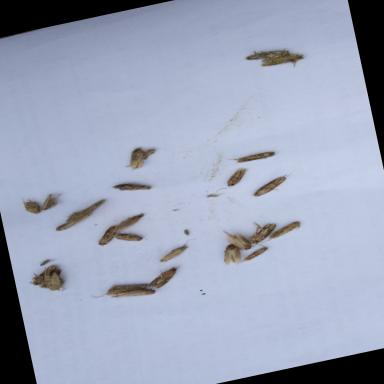pbw: (247, 172, 295, 198), (154, 238, 200, 264), (256, 220, 302, 244), (62, 198, 107, 222), (260, 50, 305, 74), (144, 264, 184, 290), (243, 43, 290, 64), (222, 224, 254, 254), (226, 148, 278, 166), (26, 264, 60, 287), (248, 217, 278, 243), (110, 286, 158, 302), (110, 178, 151, 196), (234, 245, 270, 265), (52, 214, 91, 232), (122, 146, 148, 172), (113, 213, 147, 232), (42, 270, 66, 295), (94, 224, 119, 248), (223, 167, 249, 189), (219, 243, 242, 266), (114, 229, 143, 245), (20, 194, 41, 216), (39, 192, 64, 210)
